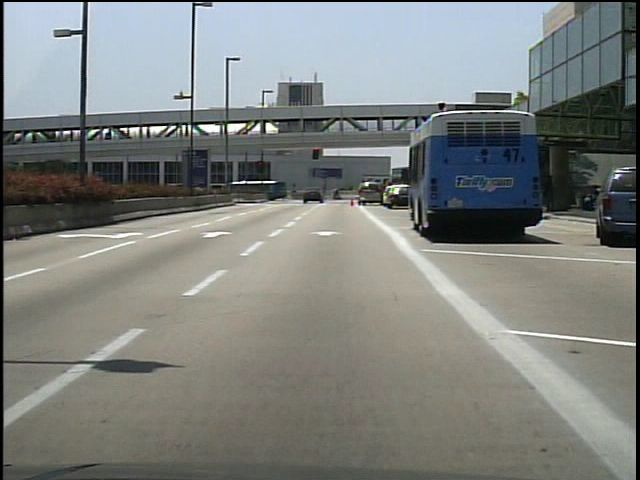person: (544, 175, 559, 211), (332, 188, 344, 202), (331, 187, 341, 202)
